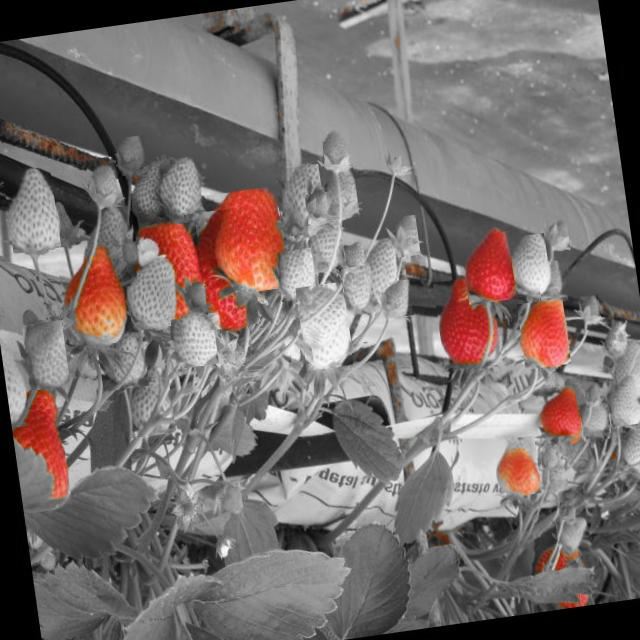ripe: (184, 206, 261, 332), (206, 186, 290, 296), (55, 240, 131, 349), (135, 221, 208, 323), (434, 274, 504, 372), (10, 407, 73, 514), (460, 231, 519, 305), (516, 298, 572, 370), (536, 384, 582, 448)
unripe: (76, 206, 138, 292), (2, 166, 62, 254), (296, 282, 354, 372), (120, 362, 176, 438), (274, 164, 328, 238), (124, 260, 178, 332), (152, 156, 208, 222), (22, 320, 72, 391), (294, 297, 352, 358), (169, 304, 219, 368), (0, 324, 31, 427), (492, 436, 542, 498), (97, 336, 149, 392), (362, 237, 401, 309), (508, 233, 552, 294), (125, 162, 171, 218), (276, 246, 320, 302), (322, 162, 360, 222), (86, 156, 123, 210), (308, 221, 346, 273), (612, 339, 640, 407), (341, 264, 377, 316), (320, 125, 355, 177), (556, 516, 593, 560), (608, 379, 640, 427), (378, 278, 415, 318), (116, 134, 150, 177), (536, 260, 568, 304), (580, 400, 613, 442), (213, 479, 244, 522), (392, 214, 420, 257), (544, 217, 572, 260), (580, 294, 604, 330), (304, 192, 330, 224), (548, 460, 569, 492), (584, 380, 602, 408)
